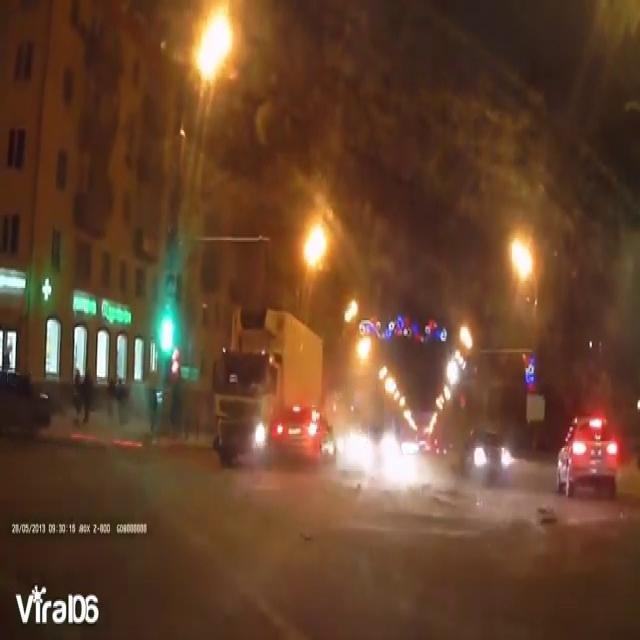moderate: (206, 294, 334, 474)
